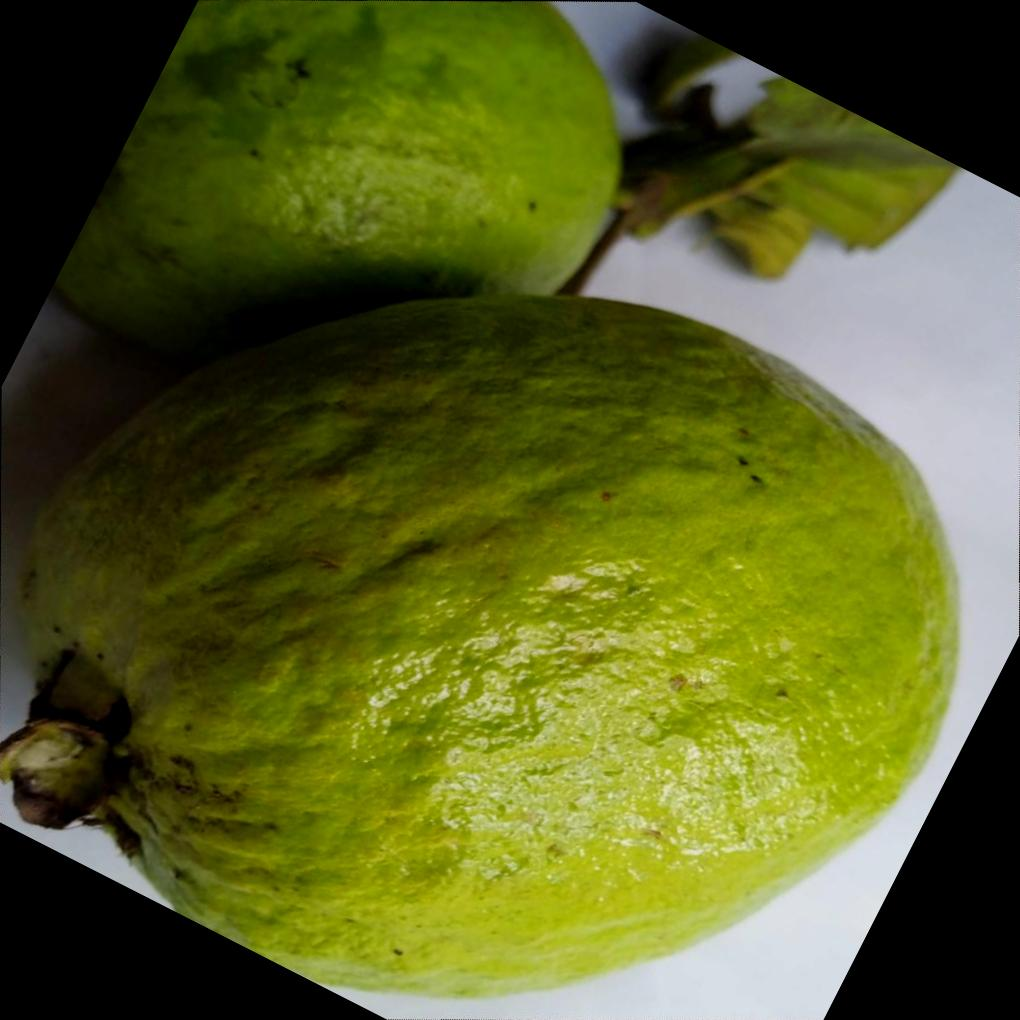FreshGuava: (0, 0, 962, 1003)
